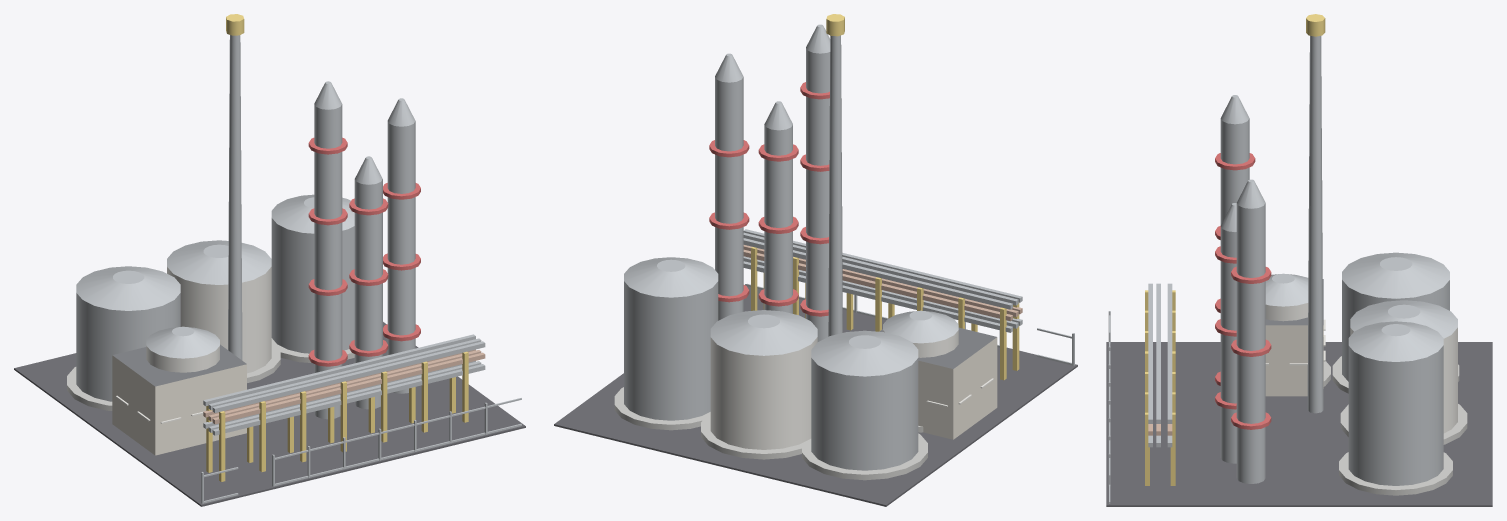
3 views of the same model, side by side, from view 1: azimuth 30°, elevation 25°; view 2: azimuth 150°, elevation 25°; view 3: azimuth 270°, elevation 25° (orthographic). The views are drawn at different scales.
Visible parts, largest first — view 1: i_3_2_b; view 2: i_3_2_b; view 3: i_3_2_b.
Boxes of the visible parts, box(x1,y1,x2,y2) form: i_3_2_b: box(14, 14, 525, 506); i_3_2_b: box(554, 14, 1077, 506); i_3_2_b: box(1106, 14, 1492, 506).
Bounding box in the file's own units: 24 × 27 × 24.
